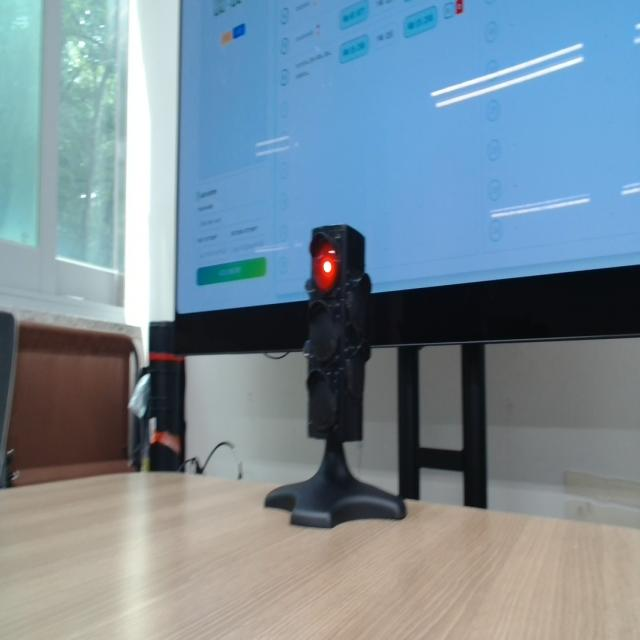red_light: (312, 241, 338, 292)
